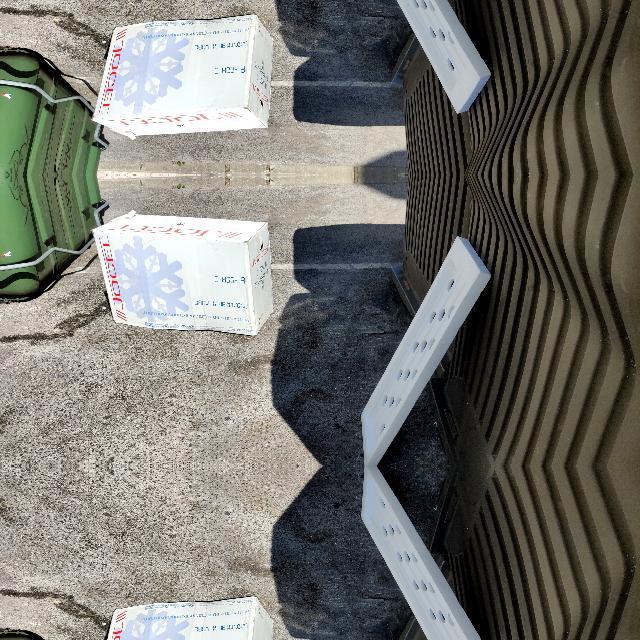Cardboard: (89, 201, 287, 343), (89, 5, 287, 147), (89, 588, 287, 640)
Plastic: (350, 225, 500, 465), (350, 466, 500, 640), (350, 0, 500, 123)
